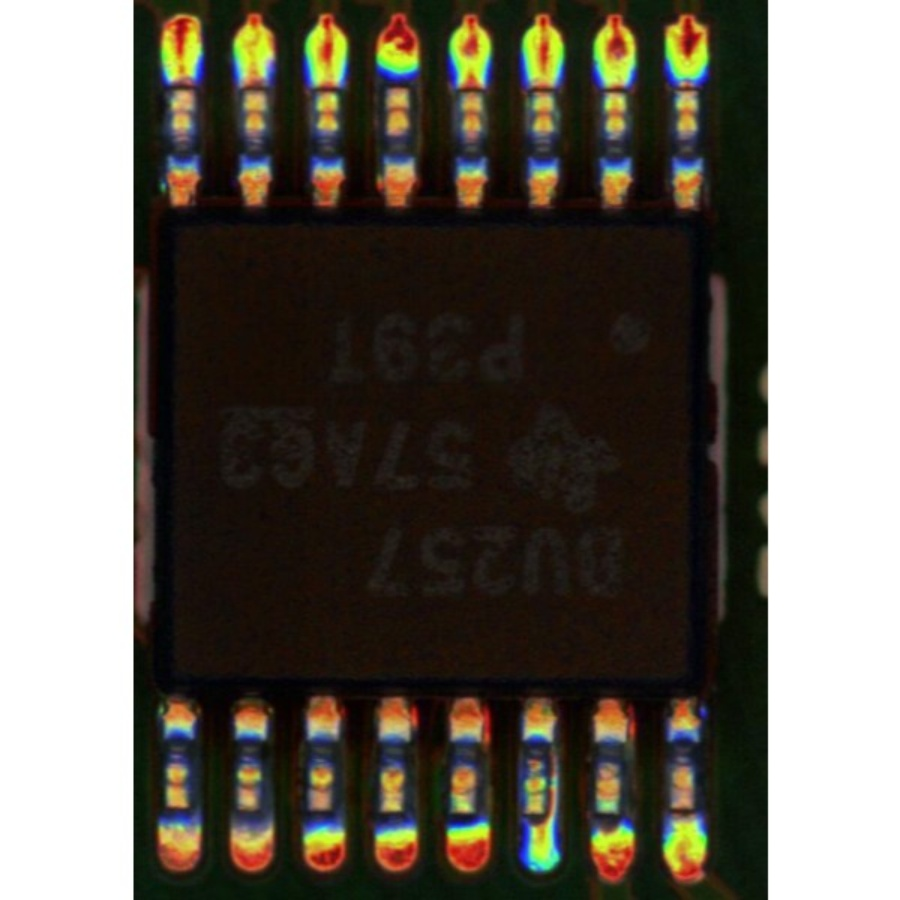Bad_podu: (247, 63, 265, 113), (318, 62, 335, 109), (463, 68, 480, 110), (171, 60, 188, 101), (534, 72, 551, 109)
Bad_qiaojiao: (547, 746, 558, 814)
